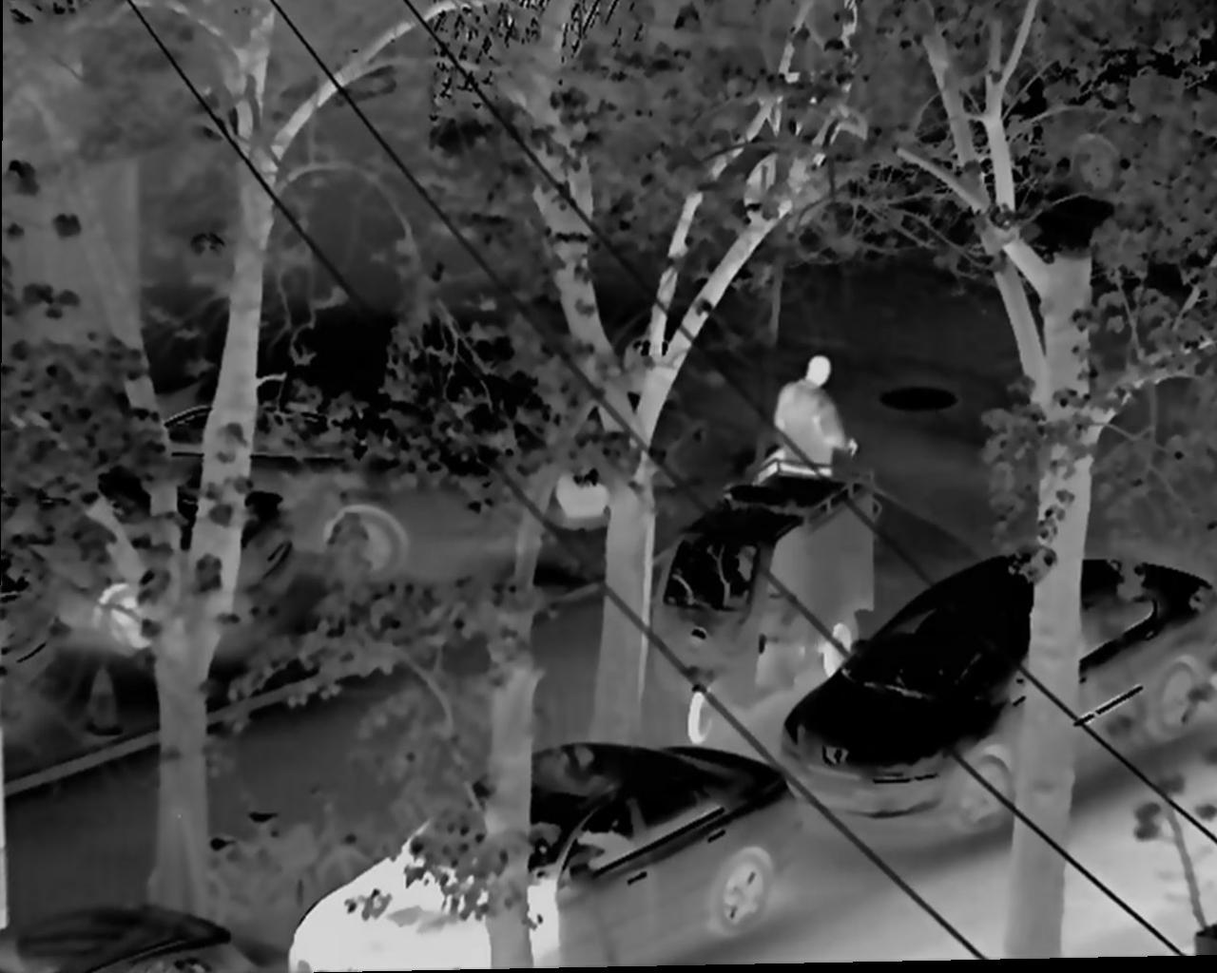person: (770, 342, 862, 483)
